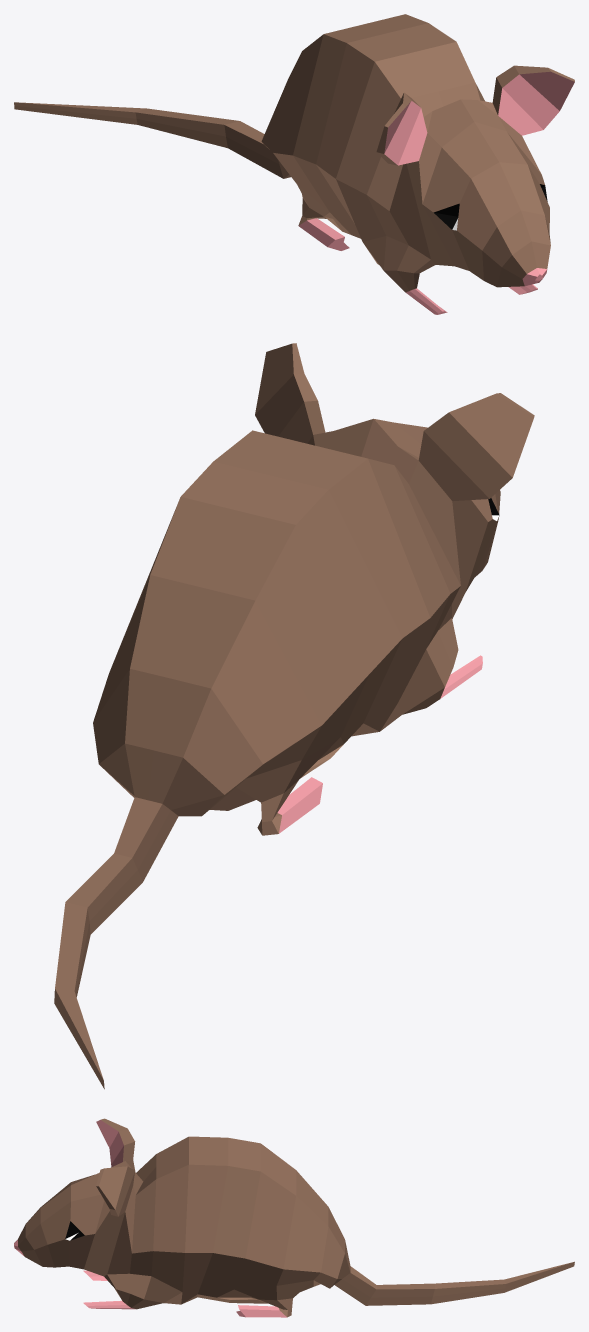
File: Rtae.fbx
3 renders of one model, top to bottom at view 1: azimuth 30°, elevation 25°; view 2: azimuth 150°, elevation 25°; view 3: azimuth 270°, elevation 25°, orthographic. The views are drawn at different scales.
Visible parts, largest first — view 1: Cube; view 2: Cube; view 3: Cube.
Boxes of the visible parts, x1,y1,x2,y2 form: Cube: [14, 14, 574, 314]; Cube: [54, 343, 534, 1089]; Cube: [14, 1118, 574, 1317].
Size of the model in its own units: 264 by 269 by 819.
